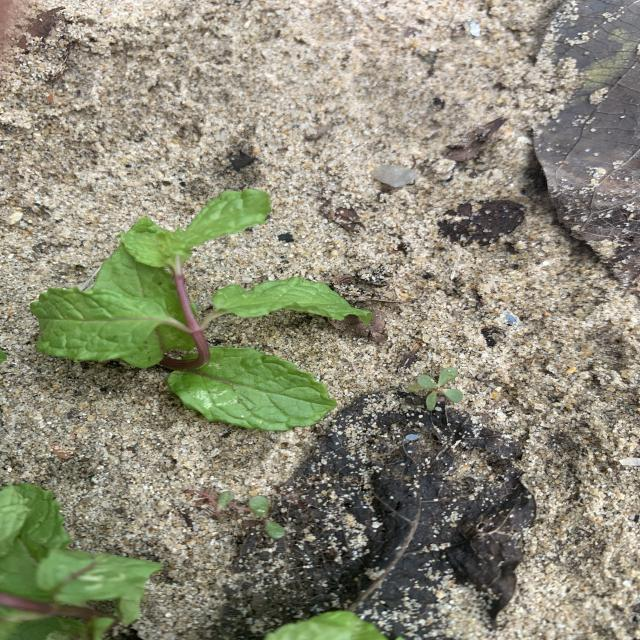crop: (31, 190, 372, 431), (0, 484, 161, 640)
weed: (185, 490, 286, 539), (408, 368, 463, 411)
